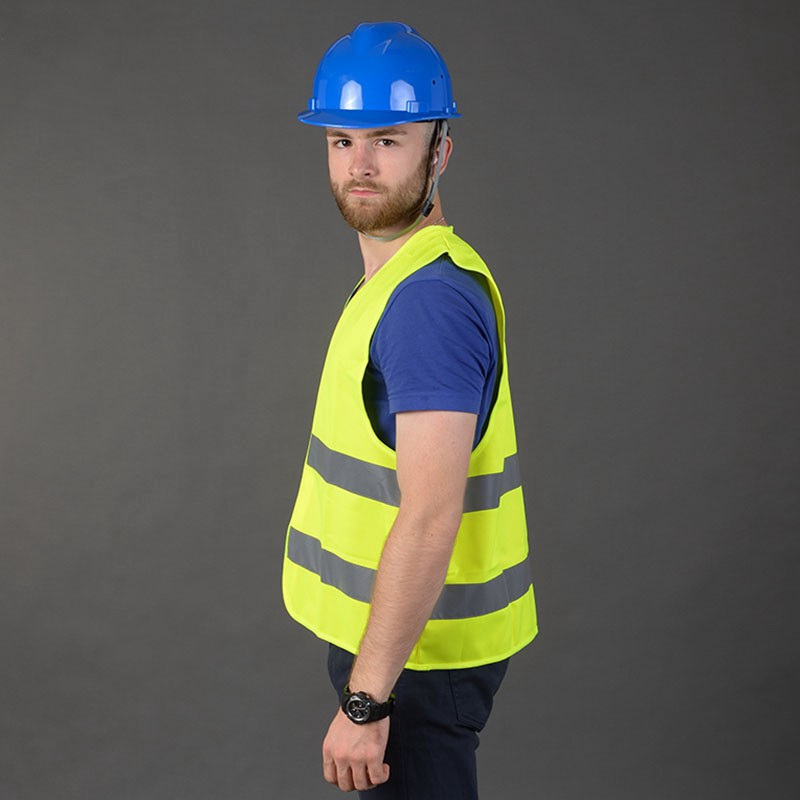Helmet: (288, 12, 489, 253)
Reflective vest: (278, 225, 542, 673)
